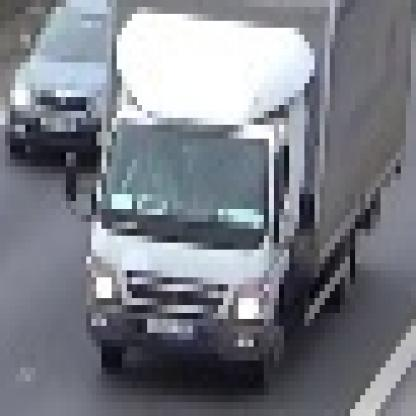truck: (62, 1, 412, 375)
